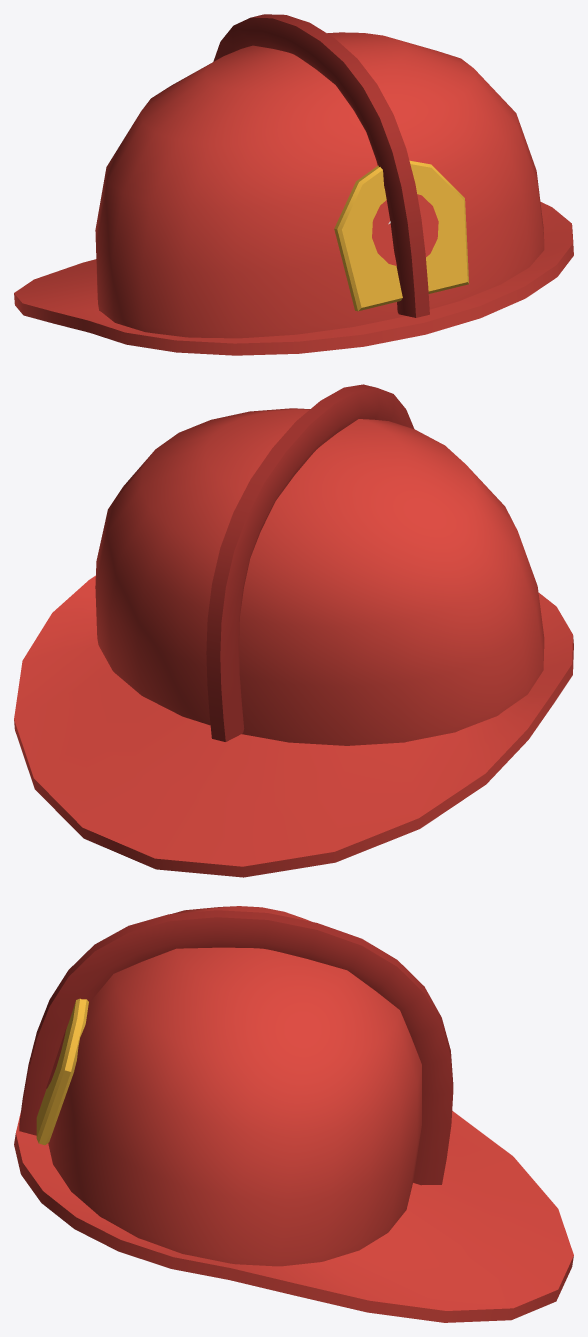
The model's file is CascoBombero.fbx.
The picture shows the model from 3 angles, top to bottom: view 1: azimuth 30°, elevation 25°; view 2: azimuth 150°, elevation 25°; view 3: azimuth 270°, elevation 25°; orthographic projection. The views are drawn at different scales.
Visible parts, largest first — view 1: CascoBombero; view 2: CascoBombero; view 3: CascoBombero.
Part boxes in pixels (<box>): CascoBombero: <box>14,14,573,355</box>; CascoBombero: <box>14,384,573,877</box>; CascoBombero: <box>14,906,573,1322</box>.
Size of the model in its own units: 1.37 by 0.94 by 1.35.
1 material, 1 textured.
